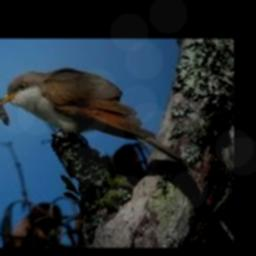Cuckoo: (0, 68, 187, 167)
